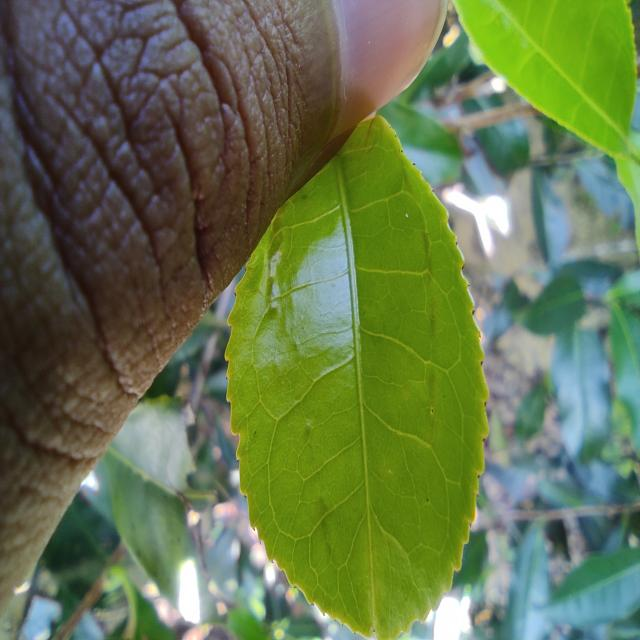Category C(4-7 days): (223, 101, 492, 627)
